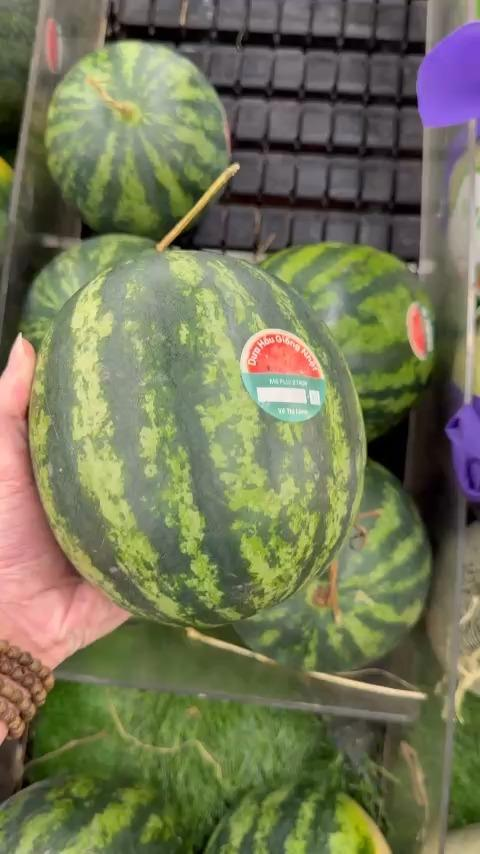watermelon: (35, 242, 368, 612), (50, 35, 241, 227), (267, 225, 440, 420)
